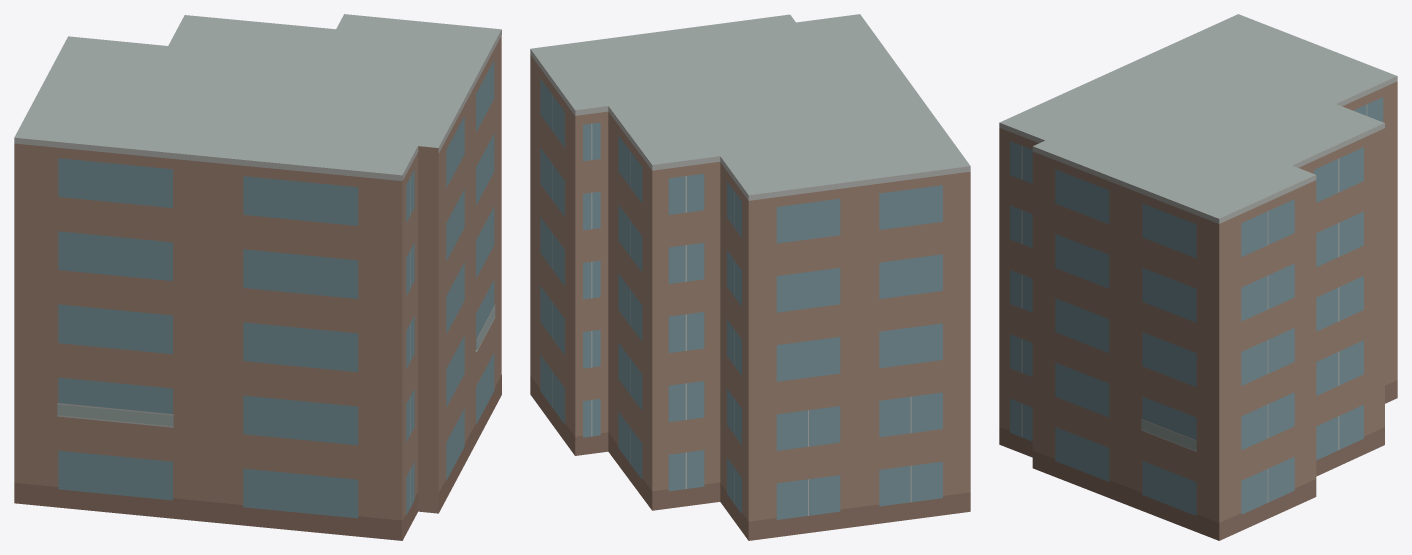
Rendered from survey-upis-32611604.glb.
3 renders of one model, left to right at view 1: azimuth 30°, elevation 25°; view 2: azimuth 150°, elevation 25°; view 3: azimuth 270°, elevation 25°, orthographic. The views are drawn at different scales.
Parts seen in each view (by area): view 1: survey-upis-32611604.tmp; view 2: survey-upis-32611604.tmp; view 3: survey-upis-32611604.tmp.
Boxes of the visible parts, box(x1,y1,x2,y2) form: survey-upis-32611604.tmp: box(14, 14, 501, 540); survey-upis-32611604.tmp: box(530, 14, 970, 540); survey-upis-32611604.tmp: box(999, 14, 1397, 540).
Bounding box in the file's own units: 20.96 × 15.35 × 17.21.
